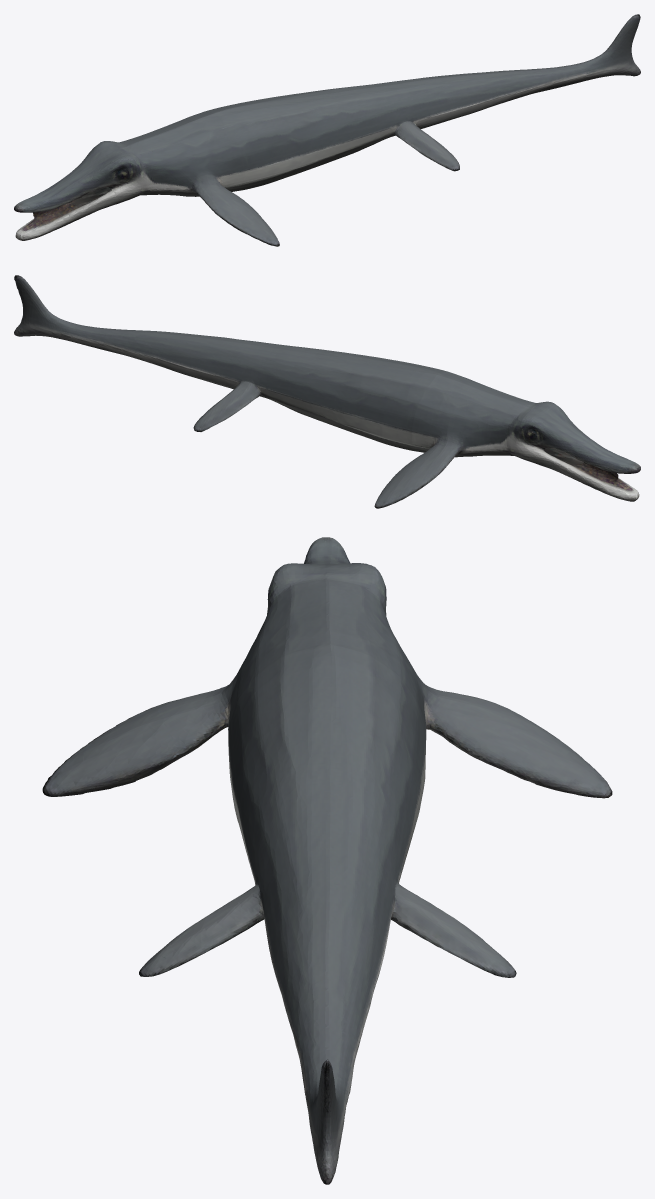
3 views of the same model, one above another, from view 1: azimuth 30°, elevation 25°; view 2: azimuth 150°, elevation 25°; view 3: azimuth 270°, elevation 25° (orthographic). The views are drawn at different scales.
Parts seen in each view (by area): view 1: world; view 2: world; view 3: world.
Part boxes in pixels (x1=…): world: x1=14, y1=14, x2=640, y2=246; world: x1=14, y1=275, x2=640, y2=508; world: x1=42, y1=537, x2=612, y2=1184.
Size of the model in its own units: 0.9968 by 0.1227 by 0.3933.
Materials: 1 (1 with a texture image).
